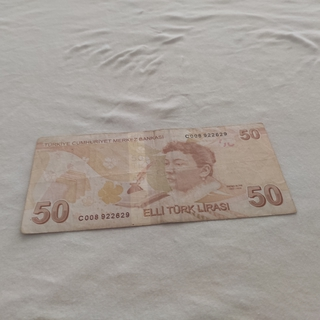50TLBack: (20, 121, 297, 234)
